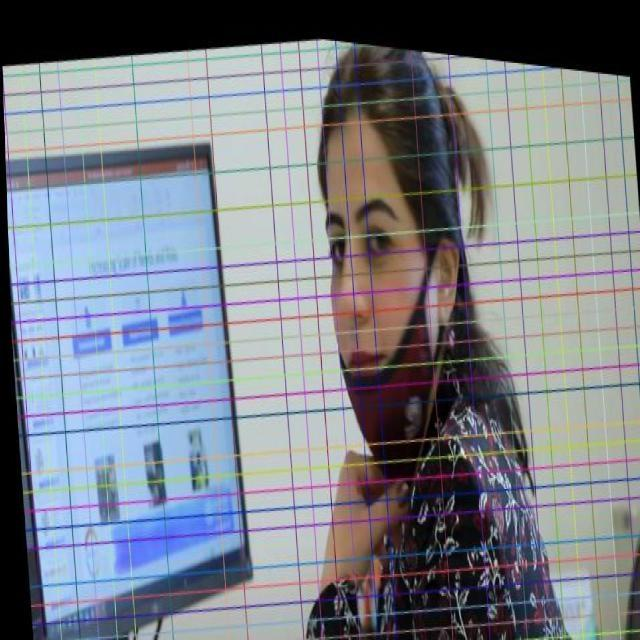hairnet: (322, 168, 435, 461)
